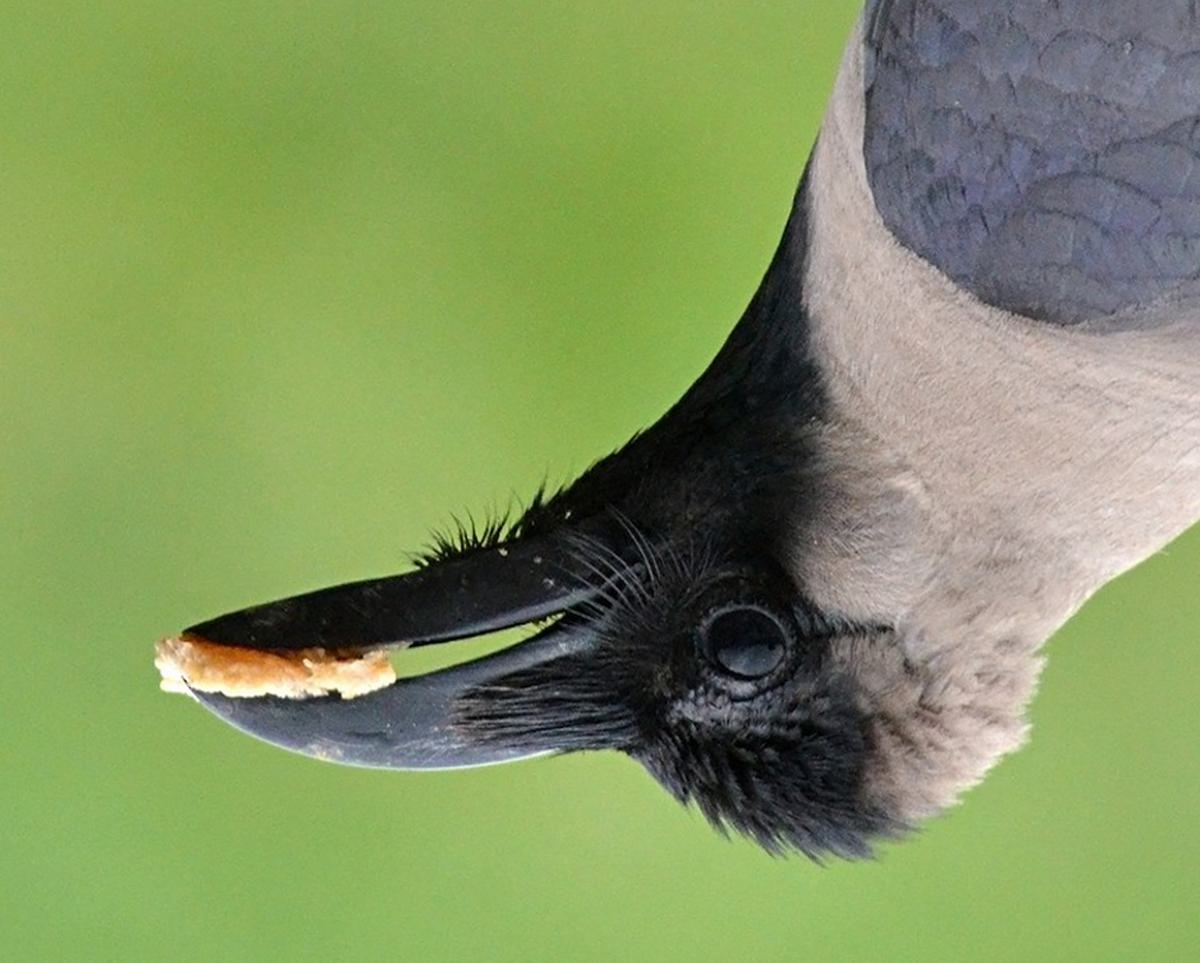crow: (144, 9, 1200, 857)
